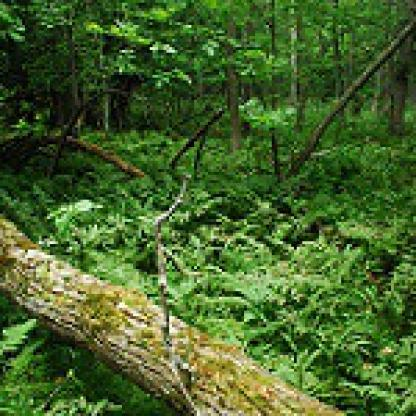trunk: (0, 216, 347, 414), (329, 0, 350, 131), (222, 70, 247, 155), (288, 0, 302, 108)
